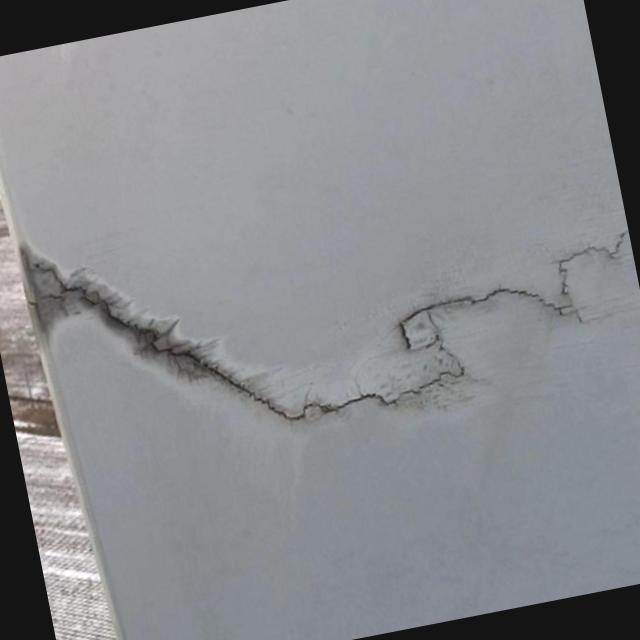crack: (41, 159, 640, 474)
